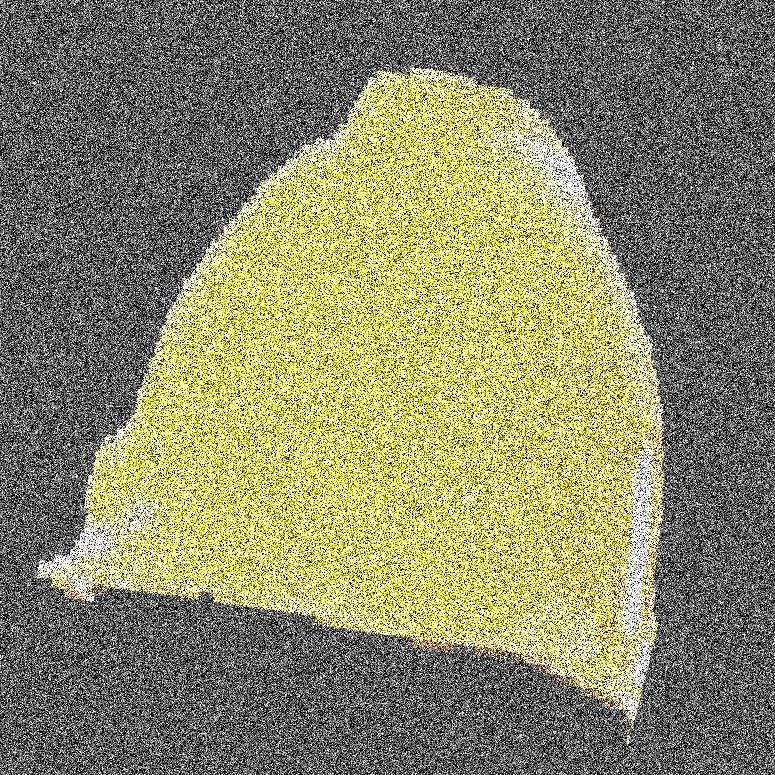Capacete: (292, 0, 774, 774)
